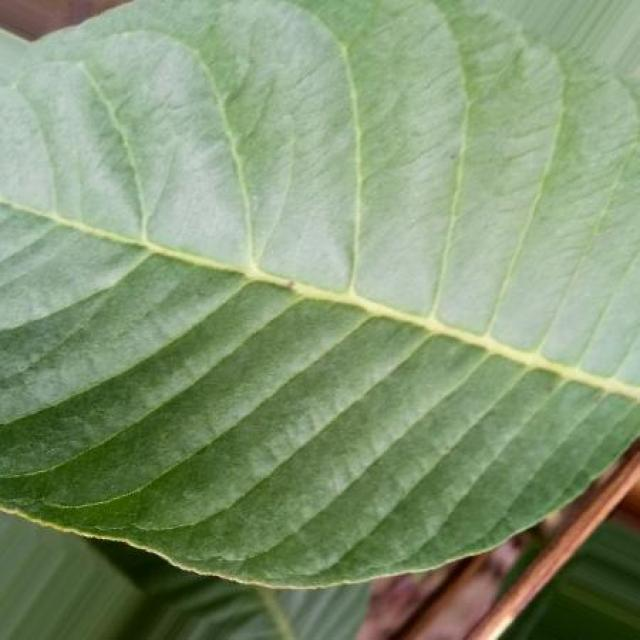Disease Free: (0, 1, 640, 587)
